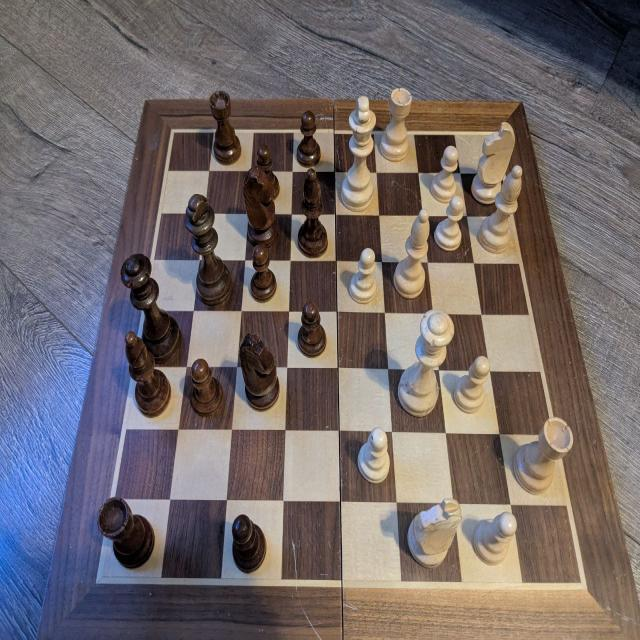black_bishop: (123, 331, 173, 415), (297, 166, 327, 256)
black_king: (184, 194, 231, 304)
black_knight: (243, 146, 280, 248), (238, 331, 280, 410)
black_pawn: (230, 514, 266, 574), (189, 358, 224, 417), (252, 144, 283, 202), (249, 239, 276, 299), (298, 302, 327, 356), (296, 109, 320, 167)
black_queen: (119, 256, 181, 360)
black_rook: (96, 495, 154, 568), (207, 86, 245, 169)
white_bishop: (478, 163, 523, 252), (392, 210, 430, 301)
white_king: (341, 95, 375, 211)
white_knight: (406, 497, 462, 568), (471, 122, 514, 205)
white_pawn: (473, 510, 518, 565), (454, 356, 491, 412), (356, 426, 389, 483), (434, 194, 464, 250), (349, 246, 377, 304), (431, 144, 458, 201)
white_queen: (396, 310, 454, 415)
white_rook: (512, 416, 573, 492), (379, 87, 412, 161)
